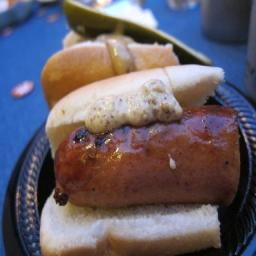hotdog: (55, 123, 245, 209)
